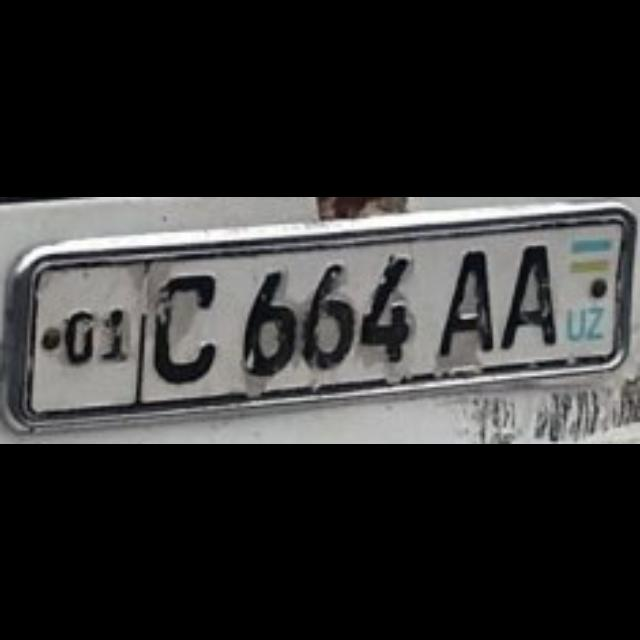0: (62, 308, 90, 362)
1: (98, 305, 125, 357)
4: (359, 253, 408, 359)
6: (240, 270, 294, 372), (299, 264, 351, 368)
A: (438, 248, 490, 350), (501, 242, 553, 344)
C: (152, 270, 212, 378)
